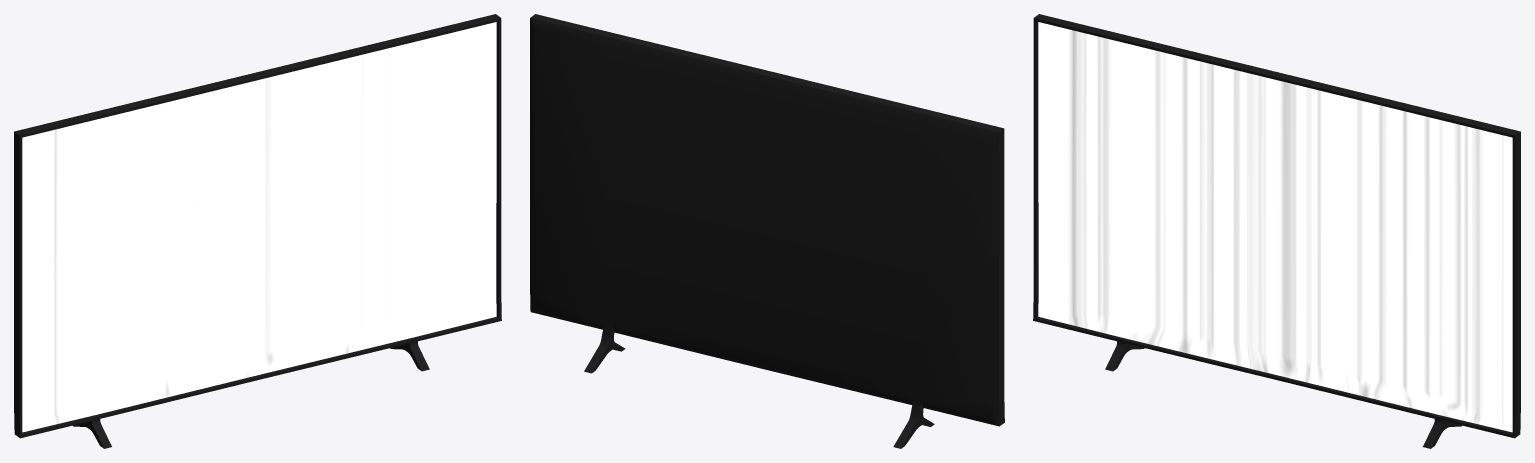
3 renders of one model, left to right at view 1: azimuth 30°, elevation 25°; view 2: azimuth 150°, elevation 25°; view 3: azimuth 330°, elevation 25°, orthographic. The views are drawn at different scales.
Parts seen in each view (by area): view 1: TV; view 2: TV; view 3: TV.
Part boxes in pixels (x1=…): TV: x1=14, y1=14, x2=501, y2=448; TV: x1=530, y1=14, x2=1004, y2=448; TV: x1=1033, y1=14, x2=1520, y2=448.
Bounding box in the file's own units: 600 × 390 × 75.05.
